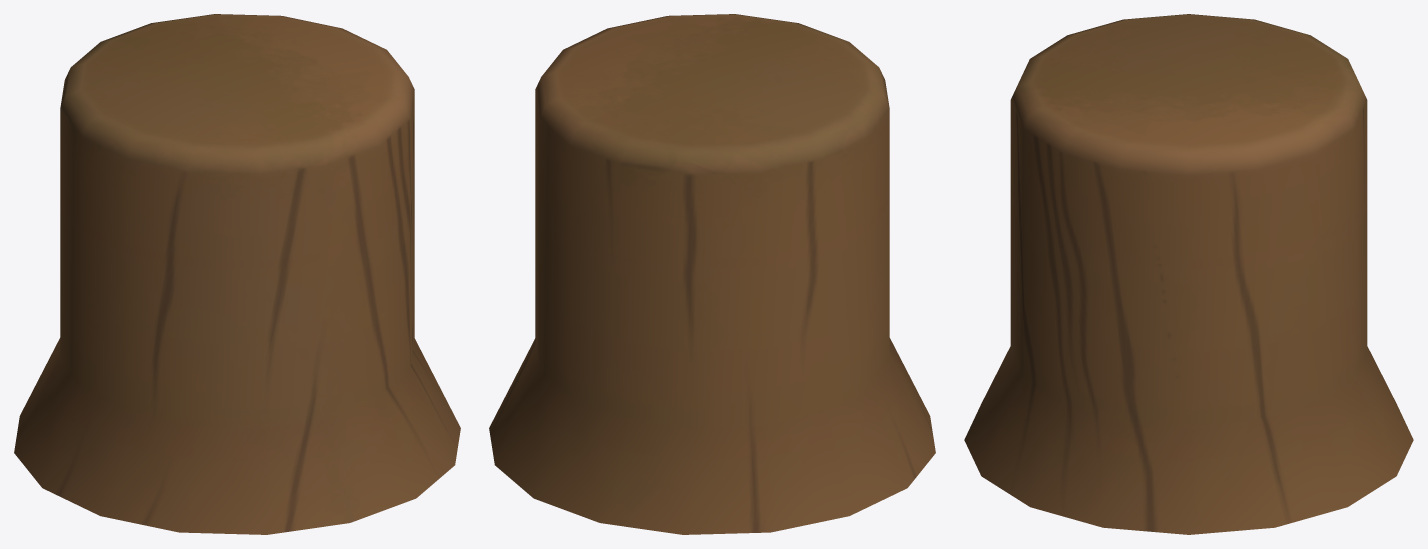
File: Log Chair 02.fbx
3 renders of one model, left to right at view 1: azimuth 30°, elevation 25°; view 2: azimuth 150°, elevation 25°; view 3: azimuth 270°, elevation 25°, orthographic.
Parts seen in each view (by area): view 1: Cylinder.041; view 2: Cylinder.041; view 3: Cylinder.041.
Part boxes in pixels (bbox=[...]): Cylinder.041: bbox=[14, 14, 460, 534]; Cylinder.041: bbox=[489, 14, 935, 534]; Cylinder.041: bbox=[964, 14, 1413, 534].
Bounding box in the file's own units: 87.27 × 76.85 × 87.27.
1 material, 1 textured.
